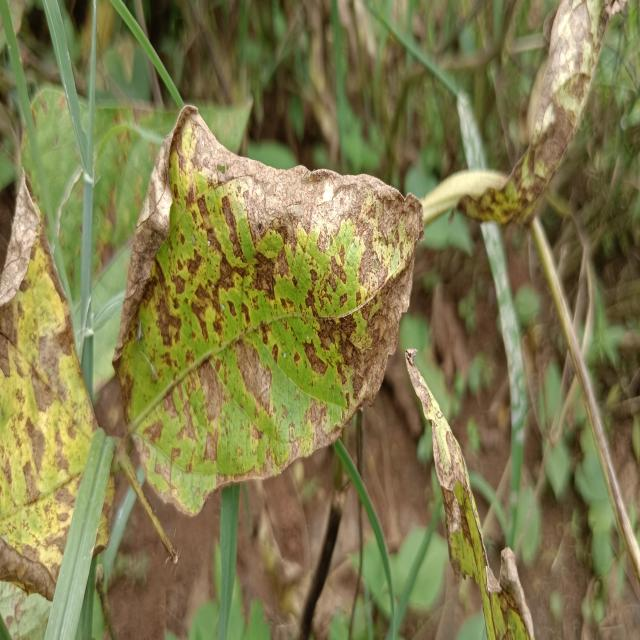Black gram_leaf spot: (115, 109, 426, 514), (0, 169, 118, 600), (427, 0, 623, 250), (406, 340, 538, 640)
